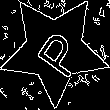P_NW: (25, 20, 85, 79)
